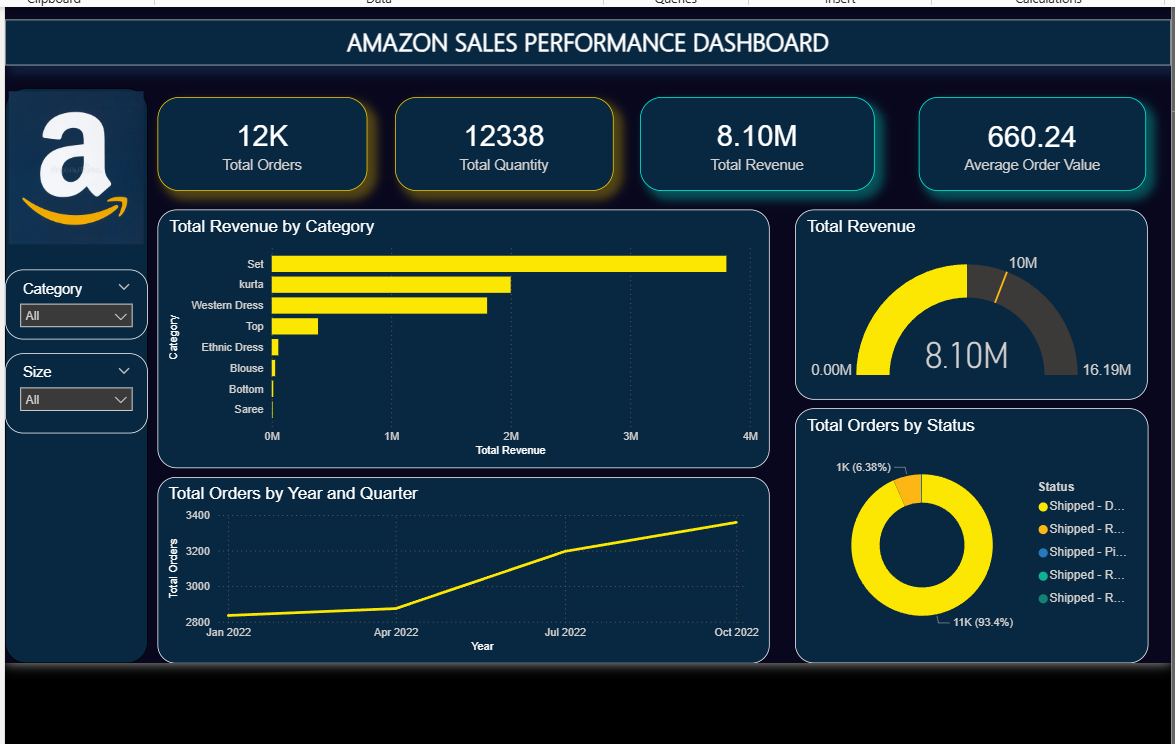

What the dashboard file says about the page in this screenshot:
{"tool":"powerbi","page":{"name":"Page 1","canvas":[1280,720],"ordinal":0},"visuals":[{"type":"card","fields":{"Values":["Amazon Sale Report.Total Orders"]},"box":[167.4,98.8,230.5,102.9],"z":0},{"type":"card","fields":{"Values":["Amazon Sale Report.Total Quantity"]},"box":[428.1,98.8,240.1,102.9],"z":1000},{"type":"card","fields":{"Values":["Amazon Sale Report.Total Revenue"]},"box":[697.1,98.8,258,102.9],"z":2000},{"type":"card","fields":{"Values":["Amazon Sale Report.Average Order Value"]},"box":[1003.1,98.8,249.7,102.9],"z":3000},{"type":"lineChart","fields":{"Category":["Amazon Sale Report.Date.Variation.Date Hierarchy.Year","Amazon Sale Report.Date.Variation.Date Hierarchy.Quarter","Amazon Sale Report.Date.Variation.Date Hierarchy.Month","Amazon Sale Report.Date.Variation.Date Hierarchy.Day"],"Y":["Amazon Sale Report.Total Orders"]},"box":[167.4,516,672.4,204.5],"z":4000},{"type":"gauge","title":"Total Revenue","fields":{"Y":["Amazon Sale Report.Total Revenue"],"TargetValue":["Amazon Sale Report.Revenue Target"]},"box":[867.2,222.3,387,208.6],"z":5000},{"type":"textbox","box":[0,13.7,1280.3,50.8],"z":6000},{"type":"textbox","box":[0,89.2,156.4,631.2],"z":7000},{"type":"image","box":[4.1,64.5,148.2,223.7],"z":8000},{"type":"clusteredBarChart","fields":{"Category":["Amazon Sale Report.Category"],"Y":["Amazon Sale Report.Total Revenue"]},"box":[167.4,222.3,672.4,284],"z":9000},{"type":"donutChart","fields":{"Category":["Amazon Sale Report.Status"],"Y":["Amazon Sale Report.Total Orders"]},"box":[867.2,440.5,388.3,279.9],"z":10000},{"type":"slicer","fields":{"Values":["Amazon Sale Report.Category"]},"box":[0,288.2,156.4,76.8],"z":11000},{"type":"slicer","fields":{"Values":["Amazon Sale Report.Size"]},"box":[0,380.1,156.4,87.8],"z":12000}]}

Visuals, with their boxes on the page's 1280x720 design canvas (x1, y1, x2, y2). These are canvas units, not pixel positions in the 1175x744 screenshot, which may show the page scaled, cropped or inside an application window:
card - Amazon Sale Report.Total Orders: Rect(167, 99, 398, 202)
card - Amazon Sale Report.Total Quantity: Rect(428, 99, 668, 202)
card - Amazon Sale Report.Total Revenue: Rect(697, 99, 955, 202)
card - Amazon Sale Report.Average Order Value: Rect(1003, 99, 1253, 202)
lineChart - Amazon Sale Report.Date.Variation.Date Hierarchy.Year x Amazon Sale Report.Date.Variation.Date Hierarchy.Quarter: Rect(167, 516, 840, 720)
"Total Revenue" gauge: Rect(867, 222, 1254, 431)
textbox: Rect(0, 14, 1280, 64)
textbox: Rect(0, 89, 156, 720)
image: Rect(4, 64, 152, 288)
clusteredBarChart - Amazon Sale Report.Category x Amazon Sale Report.Total Revenue: Rect(167, 222, 840, 506)
donutChart - Amazon Sale Report.Status x Amazon Sale Report.Total Orders: Rect(867, 440, 1256, 720)
slicer - Amazon Sale Report.Category: Rect(0, 288, 156, 365)
slicer - Amazon Sale Report.Size: Rect(0, 380, 156, 468)
